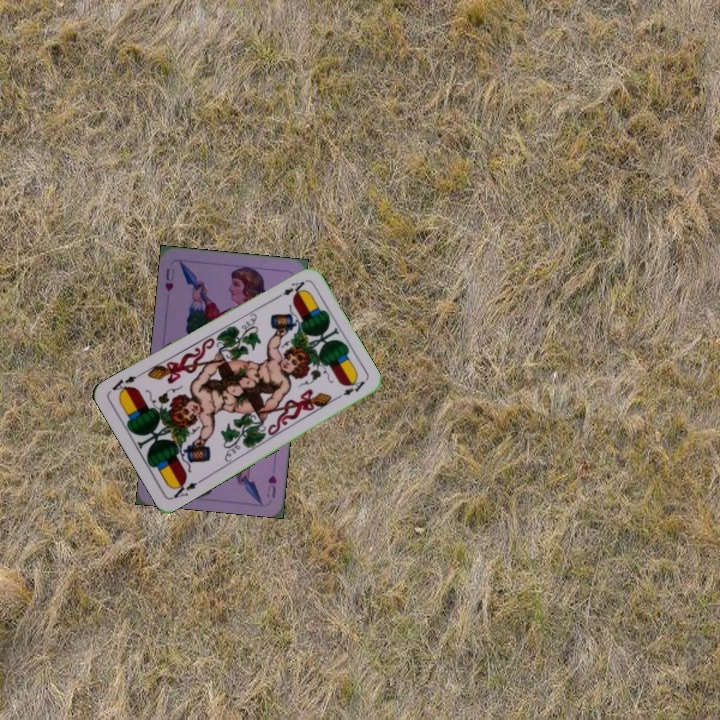EA: (168, 475, 205, 501), (270, 277, 307, 303)
HU: (161, 264, 177, 294), (264, 471, 279, 500)
